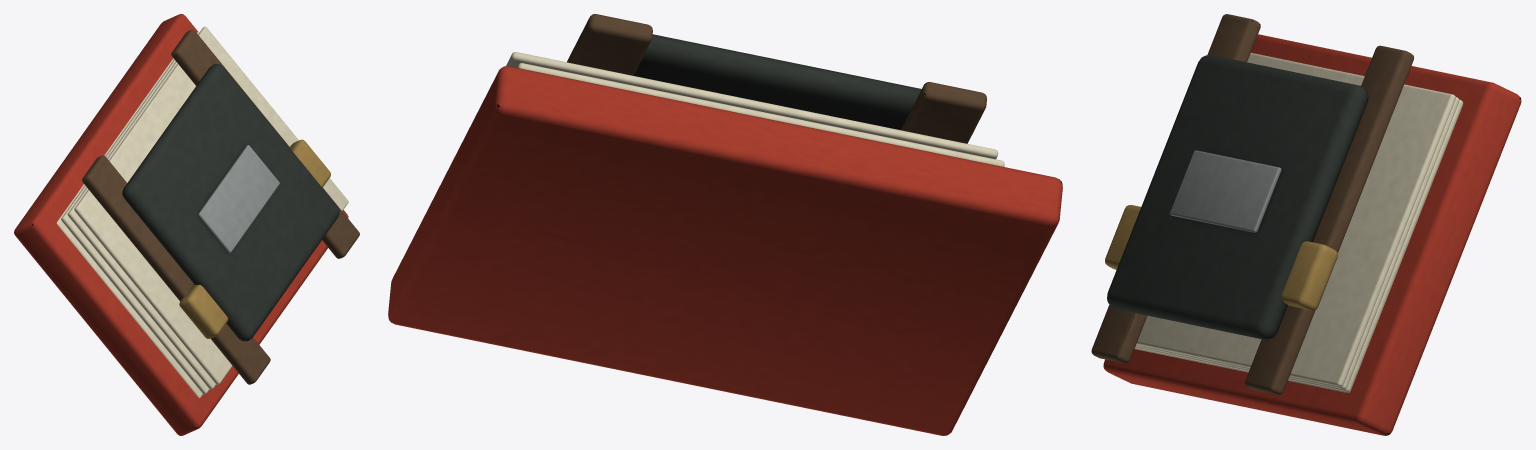
3 views of the same model, side by side, from view 1: azimuth 30°, elevation 25°; view 2: azimuth 150°, elevation 25°; view 3: azimuth 270°, elevation 25° (orthographic). The views are drawn at different scales.
Visible parts, largest first — view 1: Rigid report cover; view 2: Rigid report cover; view 3: Rigid report cover.
Part boxes in pixels (left/top/right/bottom): Rigid report cover: left=14, top=14, right=359, bottom=435; Rigid report cover: left=388, top=14, right=1062, bottom=435; Rigid report cover: left=1091, top=14, right=1521, bottom=435.
Bounding box in the file's own units: 1.37 × 1.08 × 1.04.
1 material, 1 textured.
